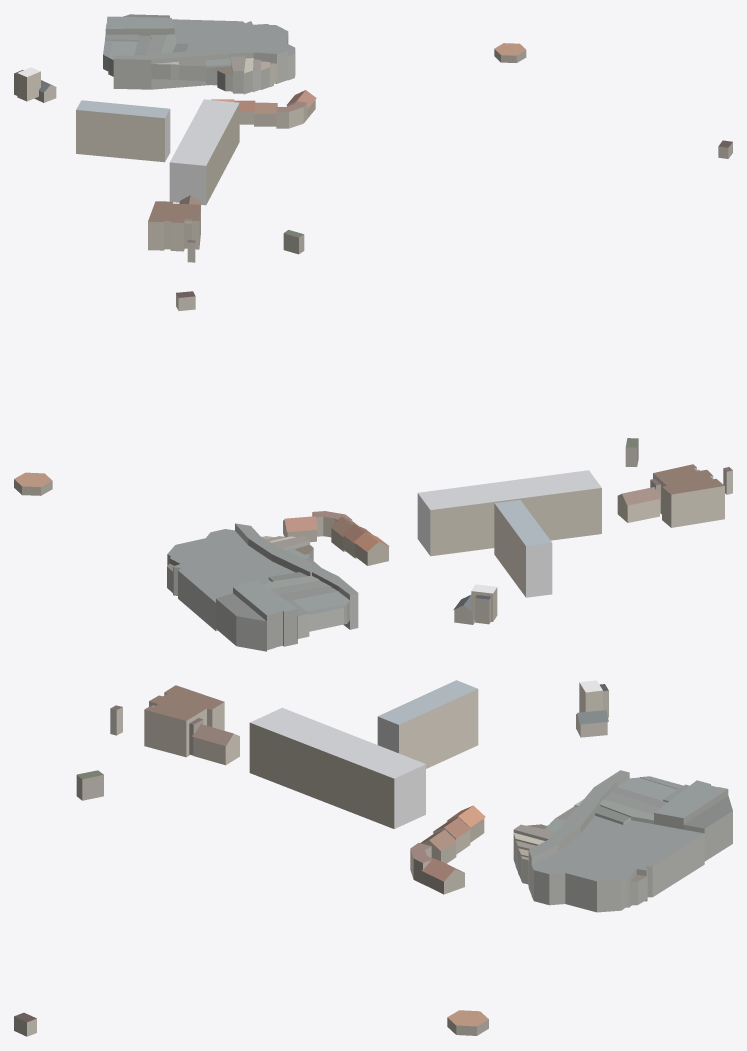
3 renders of one model, top to bottom at view 1: azimuth 30°, elevation 25°; view 2: azimuth 150°, elevation 25°; view 3: azimuth 270°, elevation 25°, orthographic. The views are drawn at different scales.
Visible parts, largest first — view 1: tuile; view 2: tuile; view 3: tuile.
Boxes of the visible parts, box(x1,y1,x2,y2) form: tuile: box(14, 14, 732, 262); tuile: box(14, 291, 732, 651); tuile: box(14, 680, 732, 1036).
Size of the model in its own units: 257 by 26.71 by 237.
